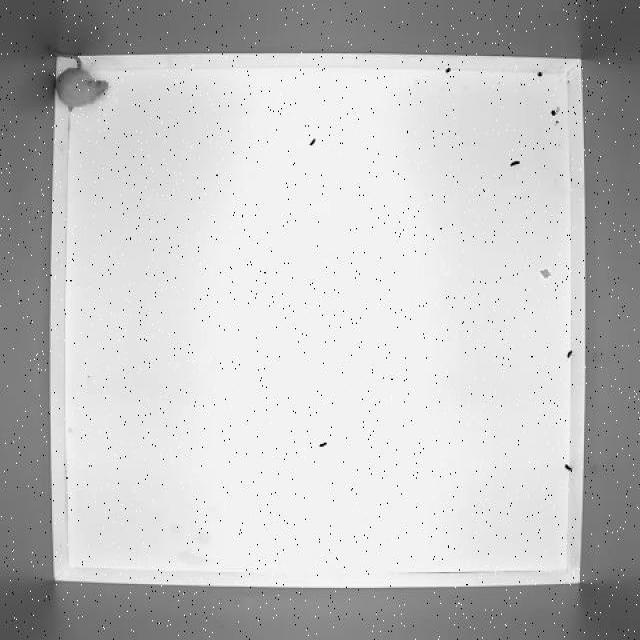rat: (41, 37, 112, 115)
